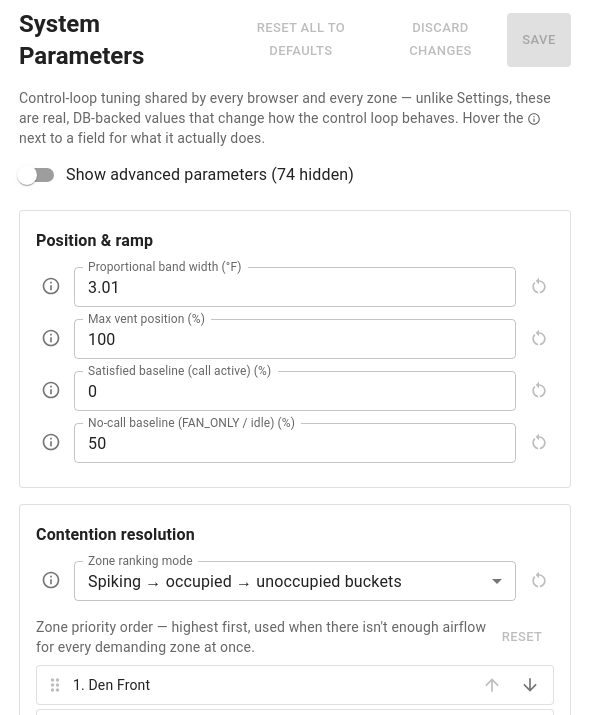
SystemParametersPage › zone priority order › reordering zones marks the page dirty and enables its own reset
Expected: the text "1. Den Front" is shown, [73,677,150,693]
Click the button named "Move Den Front down".
click(530, 685)  # box [515,670,545,700]
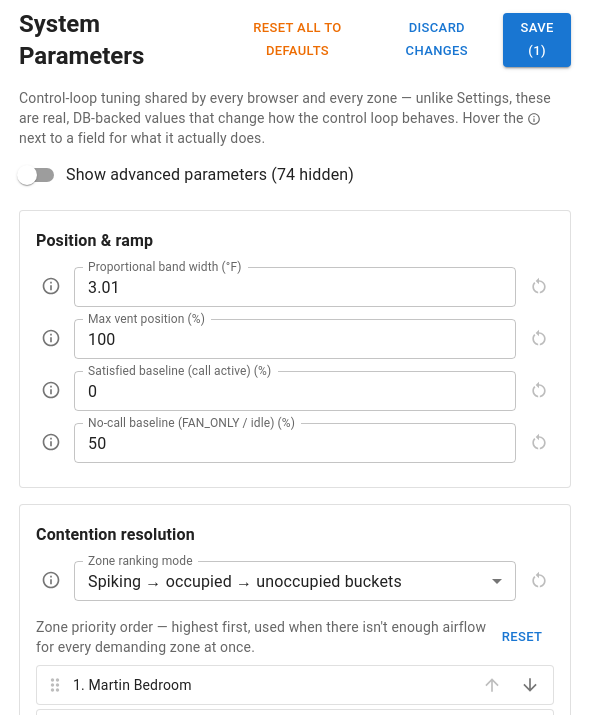
Result: the text "1. Martin Bedroom" is shown at [73,677,192,693]
Result: the button "Save (1)" is enabled at [503,13,571,67]
